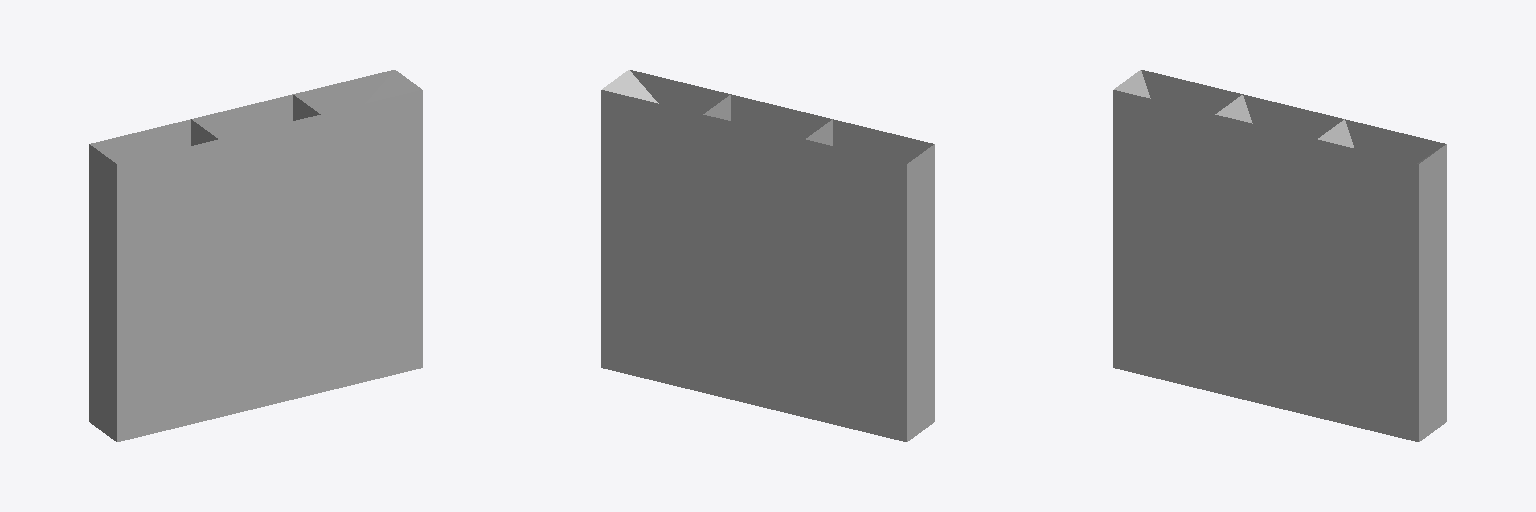
File: 3d_Felwood-Pond 09.wlw.obj
The picture shows the model from 3 angles: view 1: azimuth 30°, elevation 25°; view 2: azimuth 150°, elevation 25°; view 3: azimuth 330°, elevation 25°; orthographic projection.
Bounding box in the file's own units: 63.87 × 55.59 × 10.